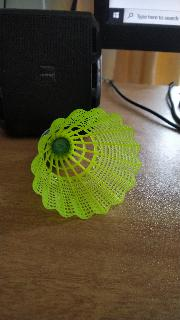shuttlecock: (32, 107, 140, 220)
